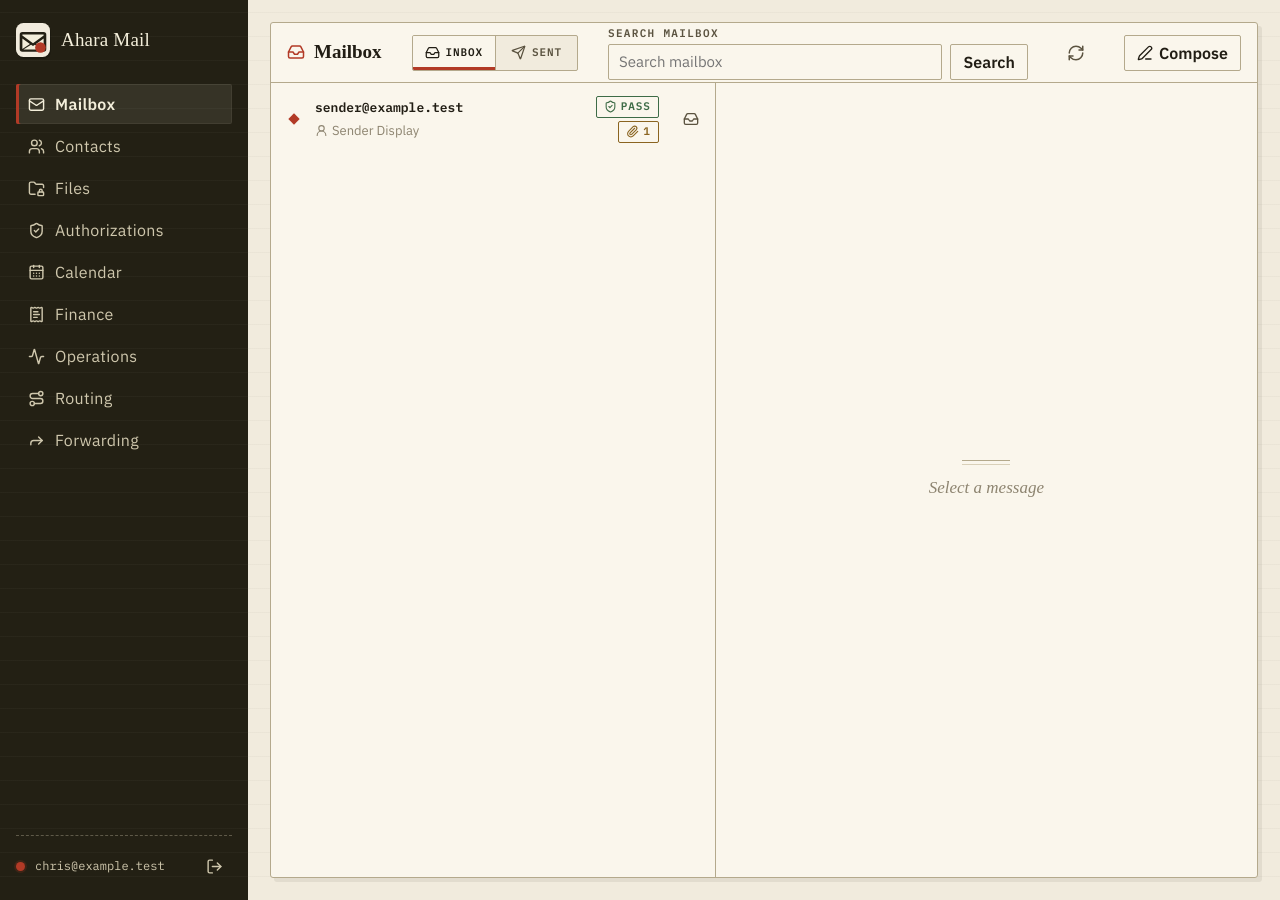
App › opens the contacts panel from signed-in navigation
The image size is (1280, 900).
Step 1. Click the button "Contacts" → click(124, 146), box [16,126,232,166]
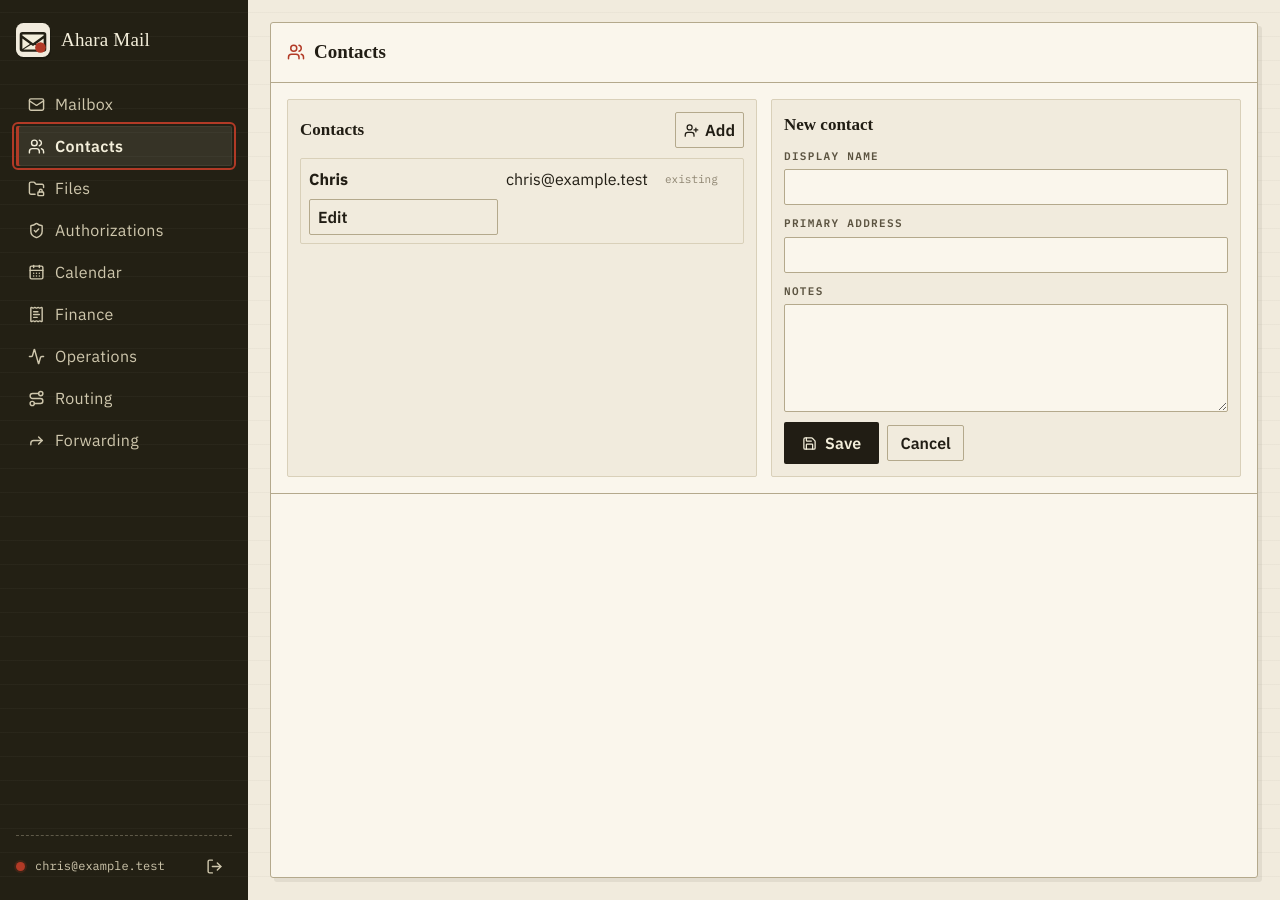
expect the 2nd text "chris@example.test" is shown: met, box [35,857,186,875]
expect the text "Chris" is shown: met, box [309,169,348,189]
